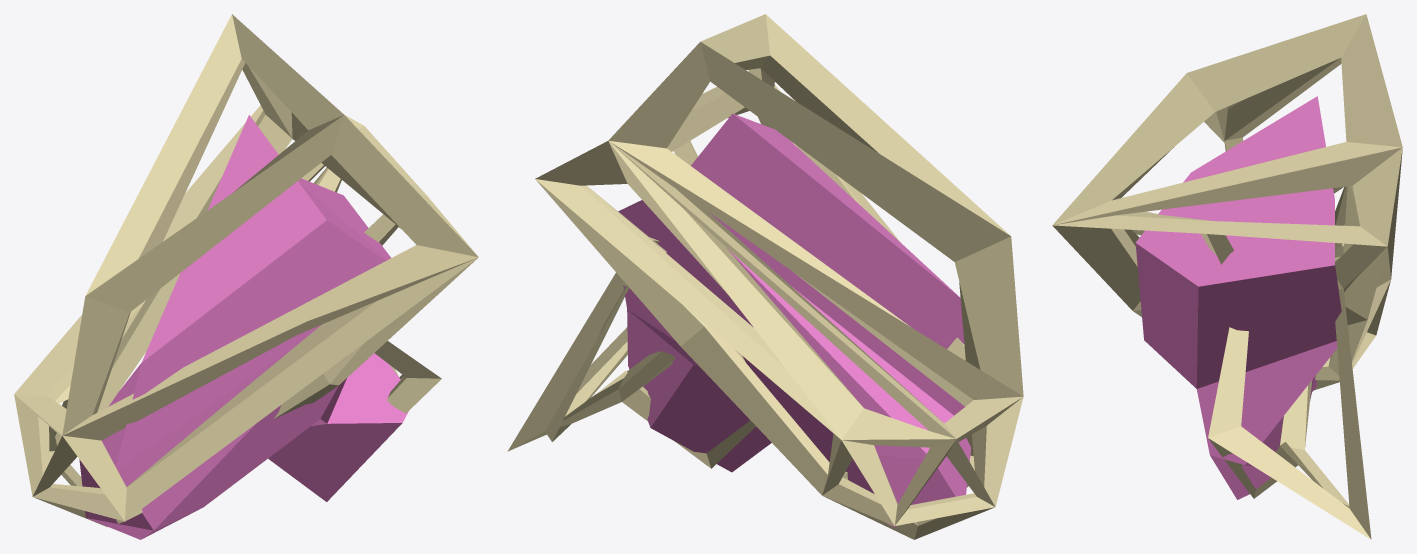
Rendered from kiki-museum.gltf.
3 views of the same model, side by side, from view 1: azimuth 30°, elevation 25°; view 2: azimuth 150°, elevation 25°; view 3: azimuth 270°, elevation 25° (orthographic). The views are drawn at different scales.
Parts seen in each view (by area): view 1: Icosphere.002, Icosphere.001; view 2: Icosphere.002, Icosphere.001; view 3: Icosphere.002, Icosphere.001.
Boxes of the visible parts, left/top/right/bottom form: Icosphere.002: left=14, top=14, right=478, bottom=526; Icosphere.001: left=79, top=115, right=408, bottom=539; Icosphere.002: left=507, top=14, right=1023, bottom=539; Icosphere.001: left=618, top=113, right=971, bottom=528; Icosphere.002: left=1052, top=14, right=1402, bottom=539; Icosphere.001: left=1135, top=96, right=1341, bottom=499.
Bounding box in the file's own units: 5.55 × 5.88 × 3.93.
